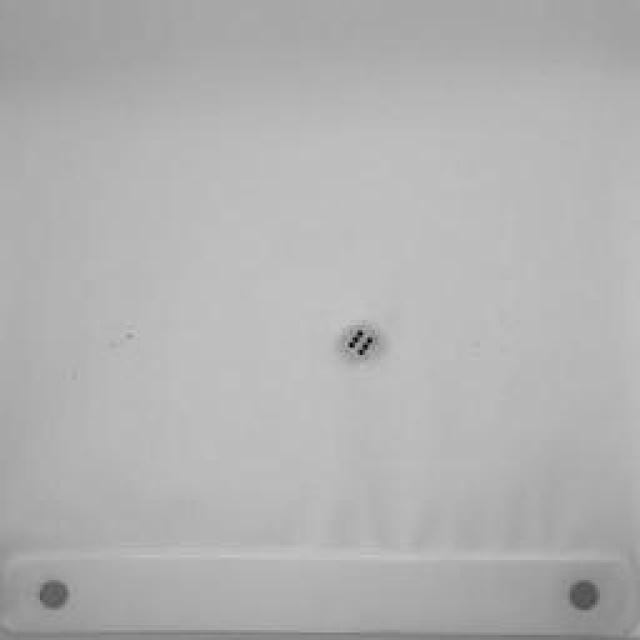dice_6: (339, 324, 381, 366)
